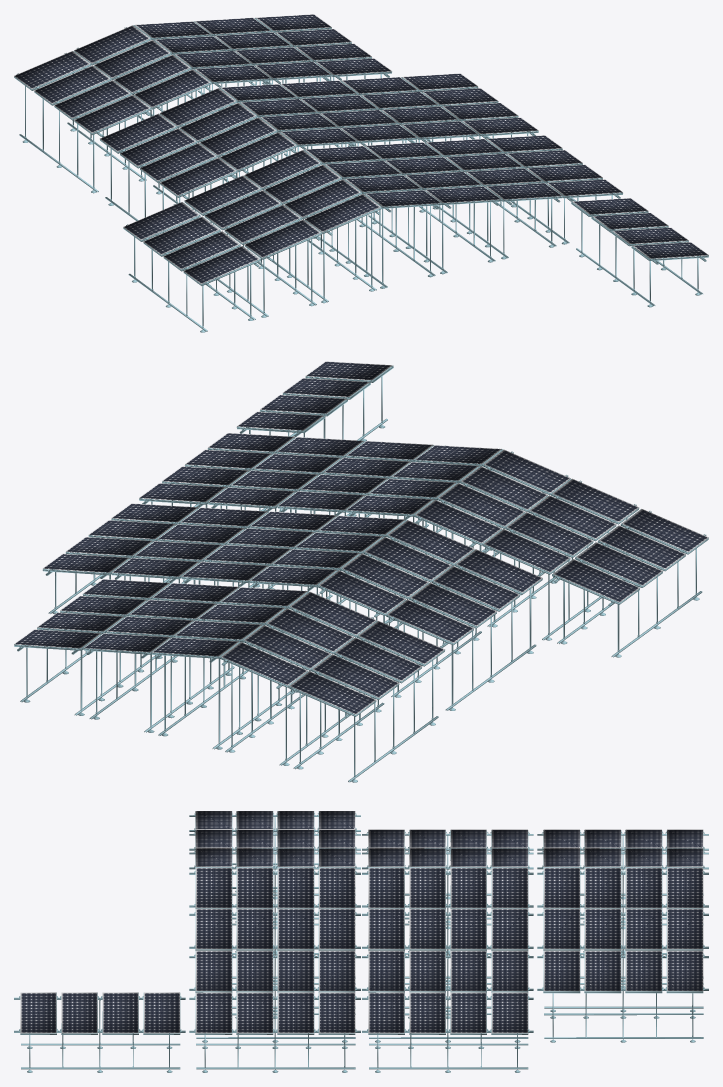
File: gc_gfa.glb
3 renders of one model, top to bottom at view 1: azimuth 30°, elevation 25°; view 2: azimuth 150°, elevation 25°; view 3: azimuth 270°, elevation 25°, orthographic. The views are drawn at different scales.
Parts seen in each view (by area): view 1: 板.133, 板.134, 板.109, 板.081, 板.082, 板.083, 板.110, 板.107, 板.131, 板.105, 板.132, 板.077 (+26 smaller); view 2: 板.083, 板.109, 板.081, 板.082, 板.134, 板.110, 板.133, 板.105, 板.077, 板.130, 板.106, 板.107 (+26 smaller); view 3: 板.106, 板.107, 板.078, 板.079, 板.130, 板.131, 板.108, 板.132, 板.080, 板.105, 板.077, 板.129 (+25 smaller).
Boxes of the visible parts, x1,y1,x2,y2 form: 板.133: (74,25,210,107); 板.134: (14,51,150,132); 板.109: (160,88,296,170); 板.081: (244,150,380,232); 板.082: (184,175,320,257); 板.083: (123,202,259,284); 板.110: (100,113,236,195); 板.107: (341,77,477,137); 板.131: (255,14,391,74); 板.105: (220,84,356,144); 板.132: (572,198,708,258); 板.077: (305,146,440,206); 板.083: (553,509,708,602); 板.109: (319,520,474,613); 板.081: (415,449,570,543); 板.082: (483,478,638,572); 板.134: (289,621,444,714); 板.110: (387,549,542,642); 板.133: (221,592,376,685); 板.105: (250,515,405,584); 板.077: (346,445,501,514); 板.130: (84,583,239,652); 板.106: (181,511,336,580); 板.107: (112,507,267,576); 板.106: (368,908,527,949); 板.107: (368,950,527,991); 板.078: (195,908,355,949); 板.079: (195,950,355,991); 板.130: (543,908,703,949); 板.131: (543,950,703,991); 板.108: (368,992,527,1032); 板.132: (20,992,179,1032); 板.080: (195,992,355,1032); 板.105: (368,867,527,907); 板.077: (195,867,355,907); 板.129: (543,867,703,907).
Bounding box in the file's own units: 8.14 × 1.58 × 11.36.
2 materials, 1 textured.
